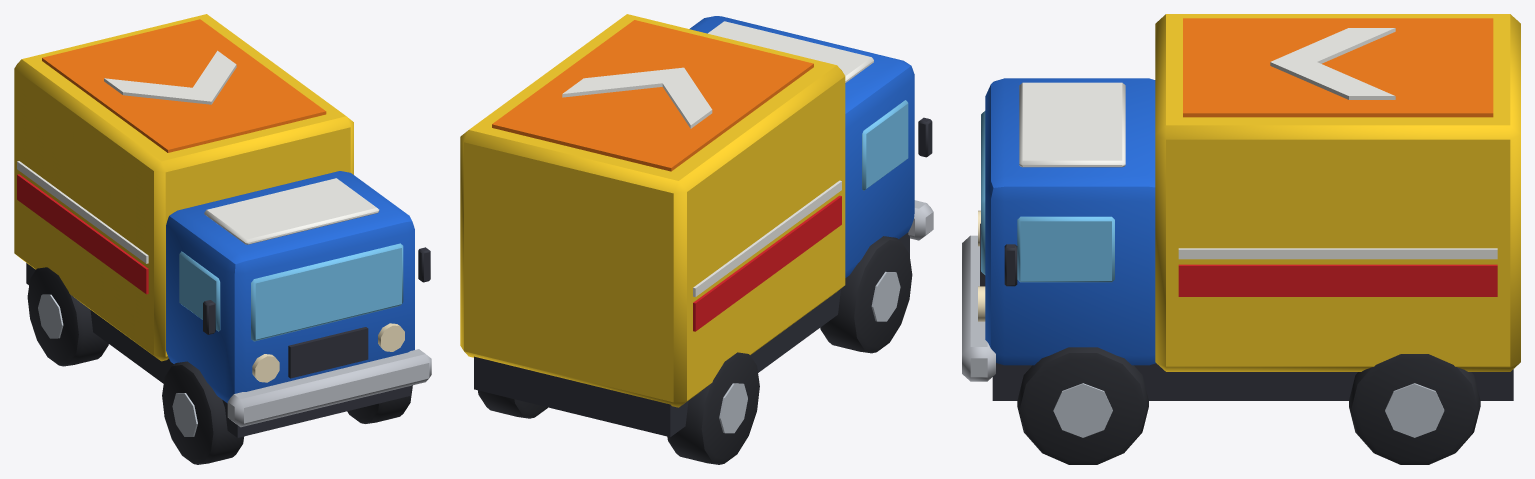
Rendered from Prop_Truck.fbx.
The picture shows the model from 3 angles, left to right: view 1: azimuth 30°, elevation 25°; view 2: azimuth 150°, elevation 25°; view 3: azimuth 270°, elevation 25°; orthographic projection. The views are drawn at different scales.
Parts seen in each view (by area): view 1: Prop_Truck; view 2: Prop_Truck; view 3: Prop_Truck.
Part boxes in pixels (bbox=[...]): Prop_Truck: bbox=[14, 14, 431, 464]; Prop_Truck: bbox=[460, 14, 933, 464]; Prop_Truck: bbox=[962, 14, 1520, 464].
Bounding box in the file's own units: 1.5 × 1.79 × 2.63.
Materials: 1 (1 with a texture image).
